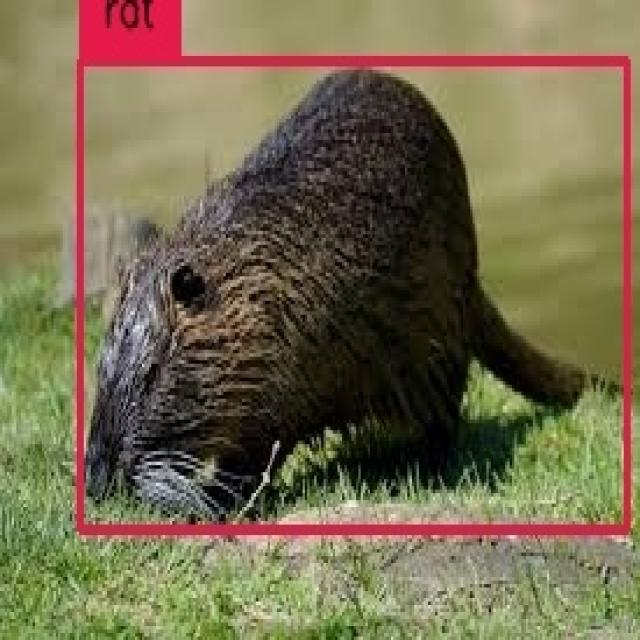rat: (80, 63, 627, 532)
